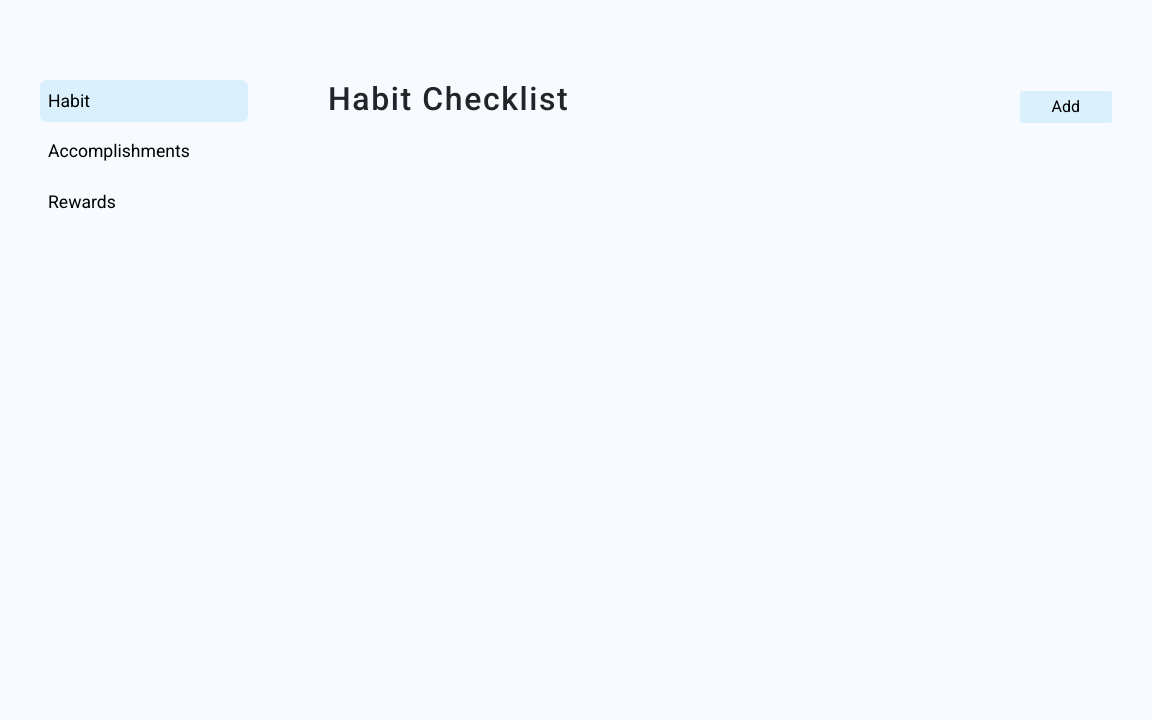
Test: habit dashboard › should display habit card when new habit is added
The image size is (1152, 720).
Click the button with id "habit-add-btn": x=1067, y=107 top-left (1020, 91), bottom-right (1113, 123)
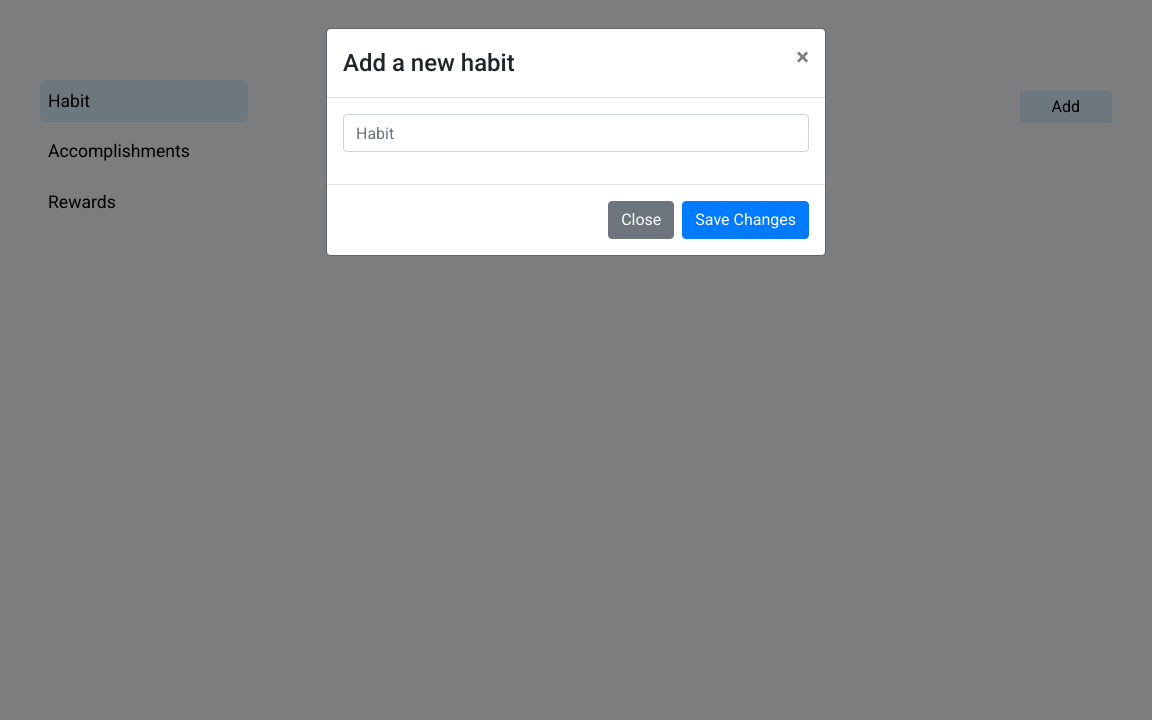
In the field with placeholder "Habit": x=576, y=133 top-left (343, 114), bottom-right (809, 152), type "Drink a cup of coffee"
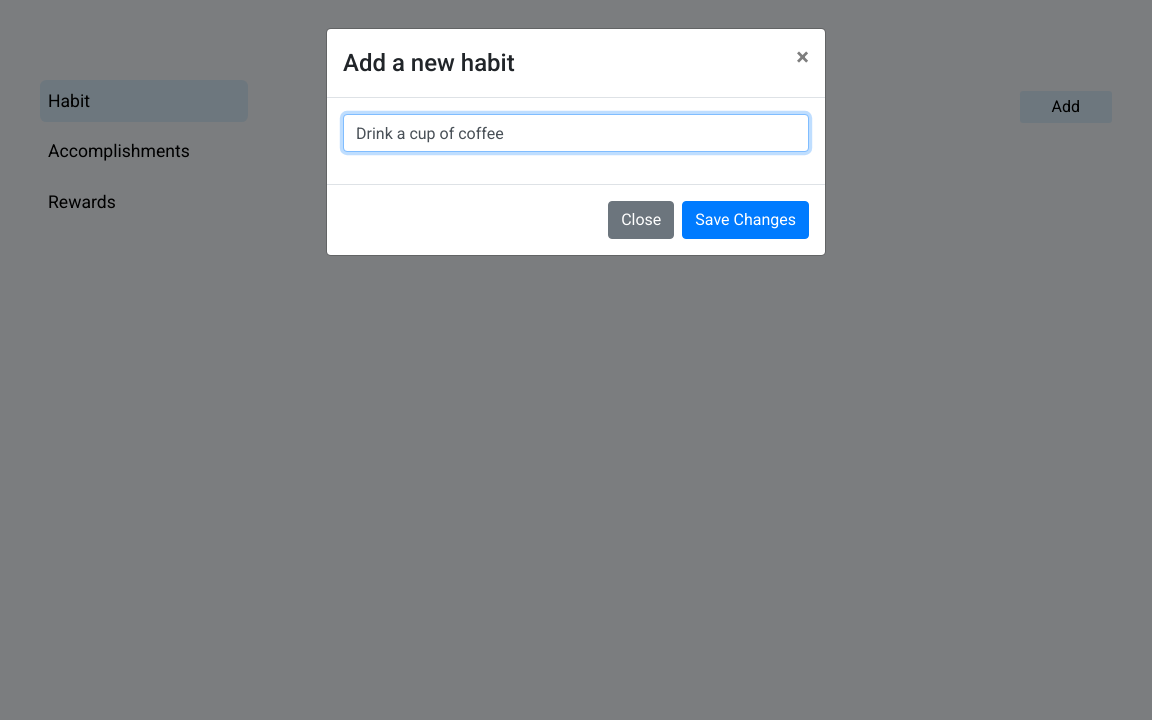
Click the button "Save Changes": x=746, y=220 top-left (682, 201), bottom-right (809, 239)
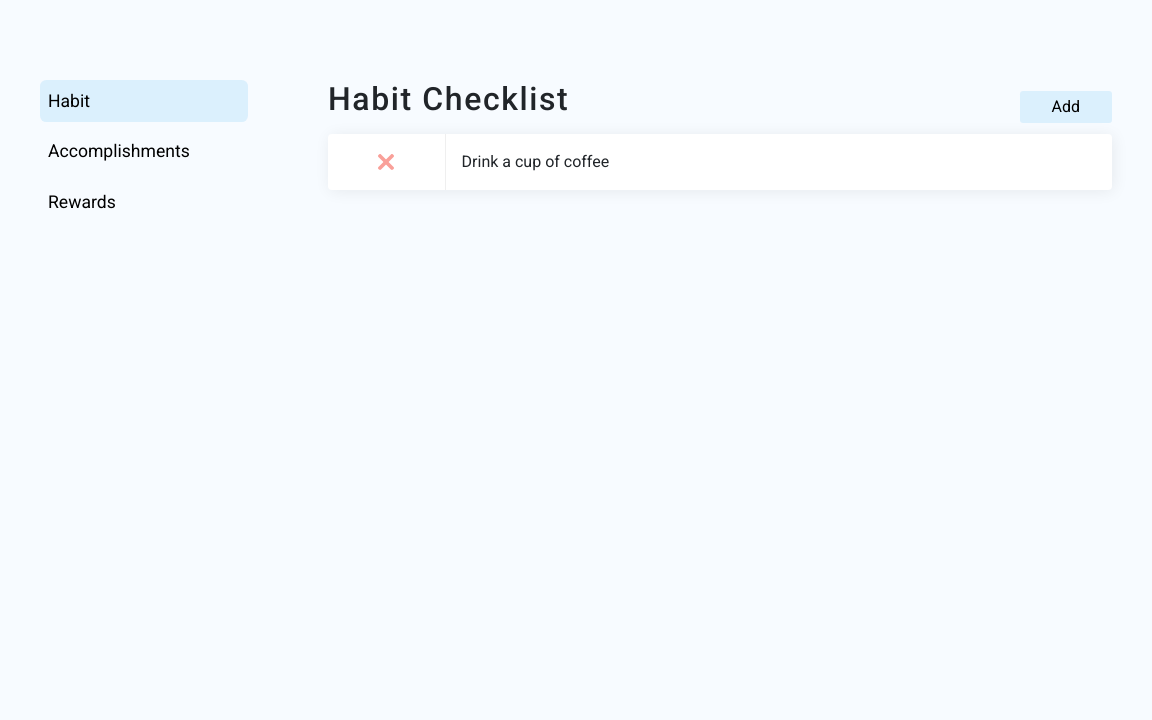
Expected: the text "Drink a cup of coffee" is shown, top-left (462, 152), bottom-right (609, 171)
